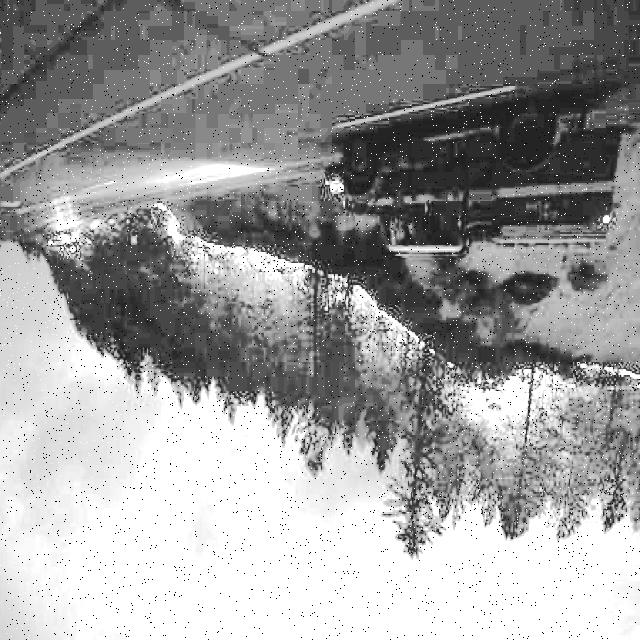api: (341, 282, 443, 366), (199, 235, 304, 283), (486, 370, 543, 448), (564, 358, 640, 402), (154, 208, 190, 250)
